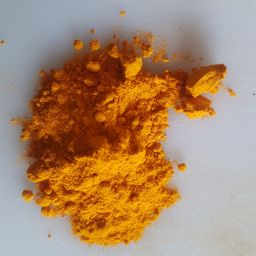Turmeric dried: (10, 27, 199, 256), (33, 58, 173, 245), (79, 46, 251, 137), (59, 154, 142, 216)
